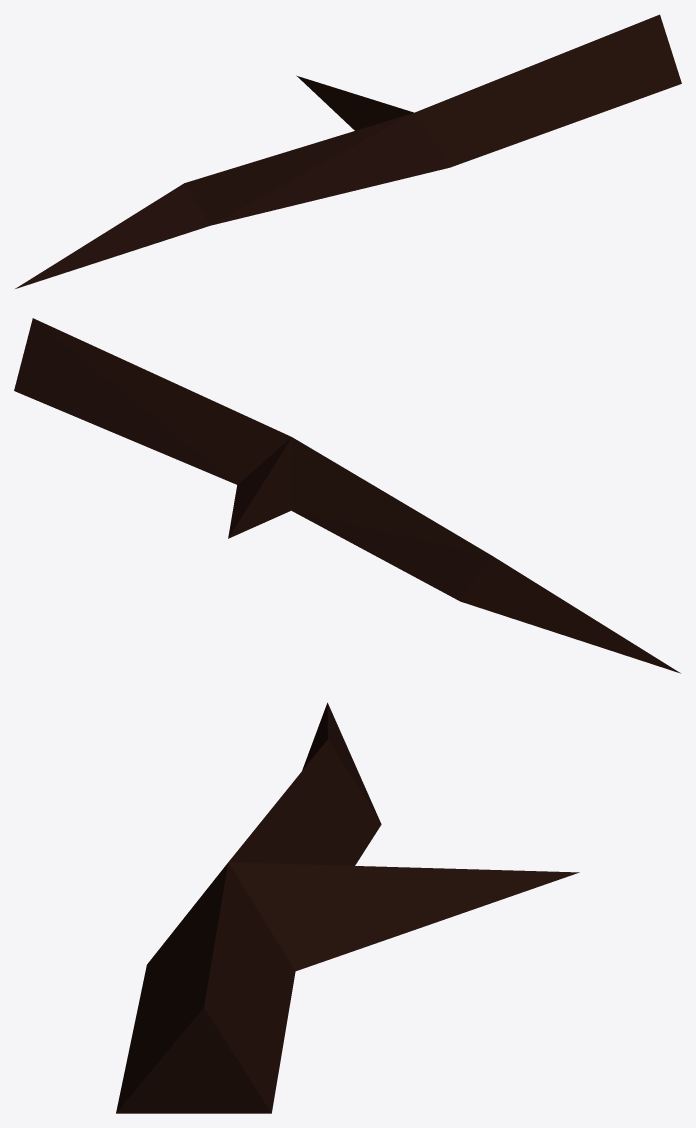
File: PineBranch2.fbx.glb
3 renders of one model, top to bottom at view 1: azimuth 30°, elevation 25°; view 2: azimuth 150°, elevation 25°; view 3: azimuth 270°, elevation 25°, orthographic. The views are drawn at different scales.
Parts seen in each view (by area): view 1: PineBranch2; view 2: PineBranch2; view 3: PineBranch2.
Part boxes in pixels (x1,y1,x2,y2): PineBranch2: (15,14,681,288); PineBranch2: (14,318,680,673); PineBranch2: (116,702,579,1113).
Bounding box in the file's own units: 116 × 26.55 × 37.84.
